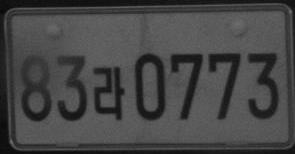0: (134, 52, 165, 121)
3: (55, 54, 88, 122), (246, 51, 279, 119)
7: (169, 52, 204, 119), (207, 52, 242, 119)
8: (20, 54, 52, 122)
라: (92, 65, 126, 121)
